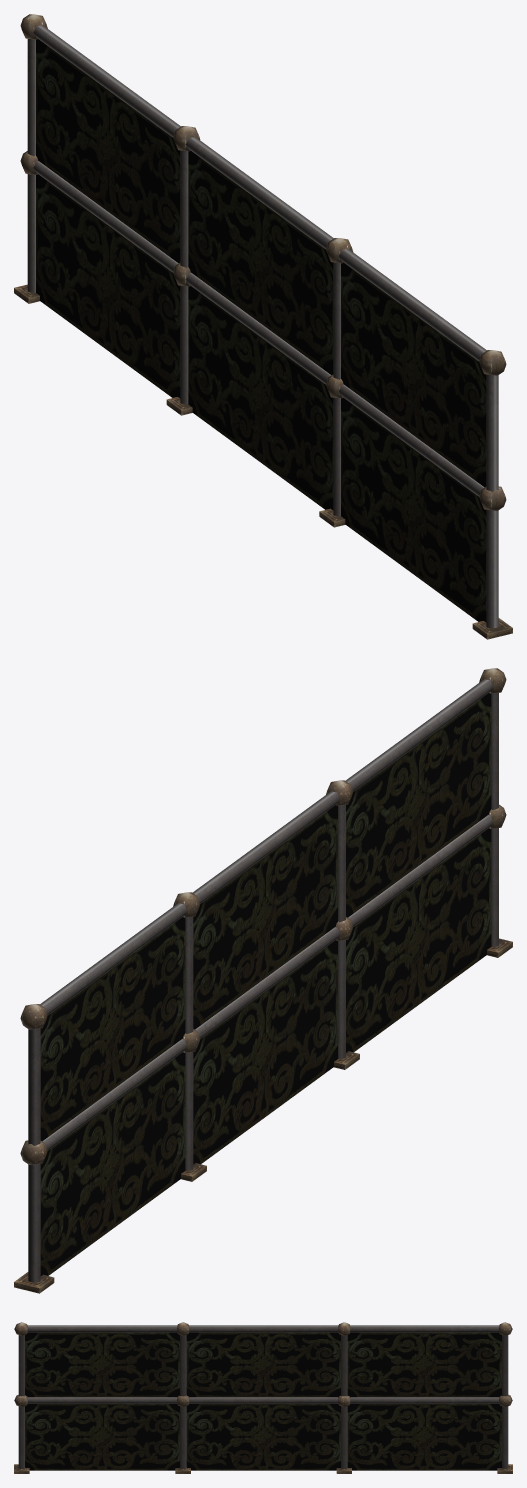
The model's file is railings_factory_4m_01.DAE.
3 views of the same model, one above another, from view 1: azimuth 30°, elevation 25°; view 2: azimuth 150°, elevation 25°; view 3: azimuth 270°, elevation 25° (orthographic). The views are drawn at different scales.
Parts seen in each view (by area): view 1: Plane004, Object001; view 2: Plane004, Object001; view 3: Plane004, Object001.
Part boxes in pixels (x1,y1,x2,y2): Plane004: (36,39,486,622); Object001: (14,14,512,639); Plane004: (40,693,491,1276); Object001: (14,668,512,1293); Plane004: (25,1332,501,1470); Object001: (14,1322,512,1473).
Bounding box in the file's own units: 0.125 × 1.31 × 4.
